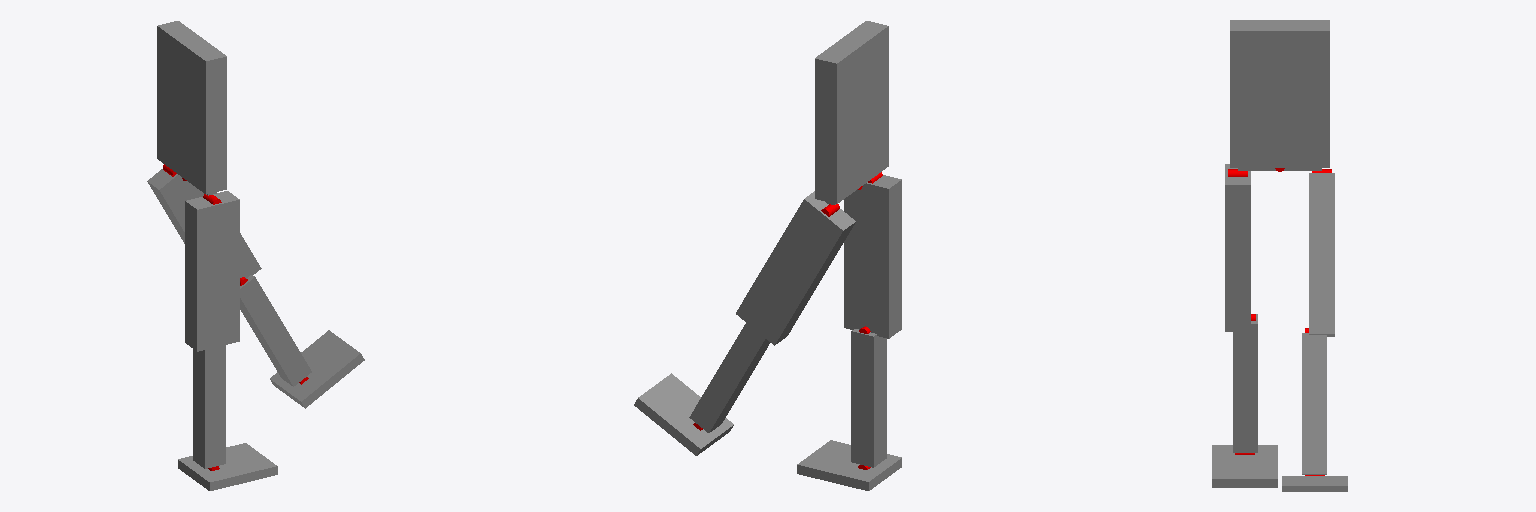
robot.urdf — humanoid:
<?xml version="1.0" ?>
<robot name="humanoid">

	<link name="world">
	<inertial>
      <mass value="0"/>
      <inertia ixx="0.2125" ixy="-0.005" ixz="0.0225" iyy="0.205" iyz="0.045" izz="0.0125"/>
      <origin rpy="0 0 0" xyz="0 0 0"/>
    </inertial>
	</link>

	<link name="x_prismatic">
	 <inertial>
      <mass value="0.01"/>
      <inertia ixx="0.2125" ixy="-0.005" ixz="0.0225" iyy="0.205" iyz="0.045" izz="0.0125"/>
      <origin rpy="0 0 0" xyz="0 0 0"/>
    </inertial>
	</link>

	<joint name="x_to_world" type="prismatic">
    <parent link="world"/>
    <child link="x_prismatic"/>
    <axis xyz="1 0 0"/>
    <limit effort="0.0" lower="10" upper="-10" velocity="1000.0"/>
    <origin rpy="0 0 0" xyz="0 0 0"/>
  </joint>

	<link name="z_prismatic">
	 <inertial>
      <mass value="0.01"/>
      <inertia ixx="0.2125" ixy="-0.005" ixz="0.0225" iyy="0.205" iyz="0.045" izz="0.0125"/>
      <origin rpy="0 0 0" xyz="0 0 0"/>
    </inertial>
	</link>

	<joint name="z_to_y" type="prismatic">
    <parent link="x_prismatic"/>
    <child link="z_prismatic"/>
    <axis xyz="0 0 1"/>
     <limit effort="0.0" lower="10" upper="-10" velocity="1000.0"/>
    <origin rpy="0 0 0" xyz="0 0 0"/>
  </joint>

	<joint name="torso_to_z" type="prismatic">
    <parent link="z_prismatic"/>
    <child link="body"/>
    <axis xyz="0 1 0"/>
    <origin rpy="0 0 0" xyz="0 0 0"/>
    <limit effort="0.0" lower="10" upper="-10" velocity="1000.0"/>
  </joint>


    <link name="body">
        <visual>
            <geometry>
                <box size="0.05 0.2 0.3"/>
            </geometry>
            <origin xyz="0.0 0 0.0" rpy="0 0 0"/>
            <material name="linkColor">
                <color rgba=" 0.6 0.6 0.6 1.0"/>
            </material>
        </visual>
        <inertial>
            <mass value="5.81"/>
            <inertia ixx="0.190" ixy="-0.000237" ixz="0.00220" iyy="0.194" iyz="0.00142" izz="0.0308"/>
            <origin xyz="0.00672  0.00244 0.076" rpy="0 0 0"/>
        </inertial>
        <collision>
            <geometry>
                <box size="0.05 0.2 0.3"/>
            </geometry>
            <origin xyz="0.0 0 0.0" rpy="0 0 0"/>
        </collision>
    </link>

    <!-- ****************************Right leg joints******************************************** -->

    <joint name="jointHipR" type="revolute">
        <parent link="body"/>
        <child link="hipCylinderR"/>
        <origin xyz="0 0.0 -0.15" rpy="0 0 0"/>
        <axis xyz="1 0 0"/>
        <limit effort="90" lower="-0.174533" upper="0" velocity="10"/>
        <dynamics damping="0.01"/>
    </joint>


    <link name="hipCylinderR">
        <visual>
            <geometry>
                <cylinder length="0.04" radius="0.01"/>
            </geometry>
            <origin xyz="0 0 0.0" rpy="0 1.57 0"/>
            <axis xyz="0 0 0" />
            <material name="red">
                <color rgba="1 0.0 0.0 1.0"/>
            </material>
        </visual>
        <inertial>
            <mass value="0"/>
            <inertia ixx="0" ixy="0" ixz="0.0" iyy="0" iyz="0.0" izz="0"/>
        </inertial>
    </link>

    <joint name="jointUpperLegR" type="revolute">
        <parent link="hipCylinderR"/>
        <child link="upperLegCylinderR"/>
        <origin xyz="0 -0.0830 -0.0250" rpy="0 0 0"/>
        <axis xyz="0 1 0"/>
        <limit effort="90" lower="-1.047" upper="+0.698132" velocity="10"/>
        <dynamics damping="0.173402366366"/>
    </joint>

    <link name="upperLegCylinderR">
        <visual>
            <geometry>
                <cylinder length="0.04" radius="0.01"/>
            </geometry>
            <origin xyz="0 0 0" rpy="1.57 0 0"/>
            <axis xyz="0 0 0" />
            <material name="red"/>
        </visual>
        <inertial>
            <mass value="0"/>
            <inertia ixx="0" ixy="0" ixz="0.0" iyy="0" iyz="0.0" izz="0"/>
        </inertial>
    </link>

    <joint name="jointLowerLegR" type="revolute">
        <parent link="upperLegCylinderR"/>
        <child link="lowerlegCylinderR"/>
        <origin xyz="0.00110 0.0140 -0.3155" rpy="0 0 0"/>
        <axis xyz="0 1 0"/>
        <limit effort="90" lower="0" upper="1.570796" velocity="10"/>
        <dynamics damping="0.198431592389"/>
    </joint>

    <link name="lowerlegCylinderR">
        <visual>
            <geometry>
                <cylinder length="0.044" radius="0.01"/>
            </geometry>
            <origin xyz="0 0 0" rpy="1.57075 0 0"/>
            <axis xyz="0 0 0" />
            <material name="red"/>
        </visual>
        <inertial>
            <mass value="0"/>
            <inertia ixx="0" ixy="0" ixz="0.0" iyy="0" iyz="0.0" izz="0"/>
        </inertial>
    </link>

    <joint name="jointAnkleR" type="fixed">
        <parent link="lowerlegCylinderR"/>
        <child link="ankleCylinderR"/>
        <origin xyz="0.00300 0 -0.2915" rpy="0 0 0"/>
        <axis xyz="0 1 0"/>
        <limit effort="90" lower="-0.436332" upper="+0.436332" velocity="10"/>
        <dynamics damping="0.0005"/>
    </joint>

    <link name="ankleCylinderR">
        <visual>
            <geometry>
                <cylinder length="0.04" radius="0.01"/>
            </geometry>
            <origin xyz="0 0 0" rpy="1.57075 0 0"/>
            <axis xyz="0 0 0" />
            <material name="red"/>
        </visual>
        <inertial>
            <mass value="0"/>
            <inertia ixx="0" ixy="0" ixz="0.0" iyy="0" iyz="0.0" izz="0"/>
        </inertial>
    </link>
<!--
    <joint name="jointfootR" type="revolute">
        <parent link="ankleCylinderR"/>
        <child link="footCylinderR"/>
        <origin xyz="0 0 -0.0115" rpy="0 0 0"/>
        <axis xyz="1 0 0"/>
        <limit effort="10" lower="-3" upper="+3" velocity="10"/>
        <dynamics damping="0"/>
    </joint>
    <link name="footCylinderR">
        <visual>
            <geometry>
                <cylinder length="0.04" radius="0.01"/>
            </geometry>
            <origin xyz="0 0 0.02" rpy="0 1.57 0"/>
            <axis xyz="0 0 0" />
            <material name="red"/>
        </visual>
        <inertial>
            <mass value="0"/>
            <inertia ixx="0" ixy="0" ixz="0.0" iyy="0" iyz="0.0" izz="0"/>
        </inertial>
    </link> -->

    <!--************************************ Left leg joints **********************************************-->


    <joint name="jointHipL" type="revolute">
        <parent link="body"/>
        <child link="hipCylinderL"/>
        <origin xyz="0 0.0 -0.15" rpy="0 0 0"/>
        <axis xyz="1 0 0"/>
        <limit effort="90" lower="0" upper="+0.174533" velocity="10"/>
        <dynamics damping="0.01"/>
    </joint>


    <link name="hipCylinderL">
        <visual>
            <geometry>
                <cylinder length="0.04" radius="0.01"/>
            </geometry>
            <origin xyz="0 0 0" rpy="0 1.57 0"/>
            <axis xyz="0 0 0" />
            <material name="red">
                <color rgba="1 0.0 0.0 1.0"/>
            </material>
        </visual>
        <inertial>
            <mass value="0"/>
            <inertia ixx="0" ixy="0" ixz="0.0" iyy="0" iyz="0.0" izz="0"/>
        </inertial>
    </link>

    <joint name="jointUpperLegL" type="revolute">
        <parent link="hipCylinderL"/>
        <child link="upperLegCylinderL"/>
        <origin xyz="0 0.0830 -0.0250" rpy="0 -0.5 0"/>
        <axis xyz="0 1 0"/>
        <limit effort="10" lower="-0.523599" upper="+1.22173" velocity="10"/>
        <dynamics damping="0.173402366366"/>
    </joint>

    <link name="upperLegCylinderL">
        <visual>
            <geometry>
                <cylinder length="0.04" radius="0.01"/>
            </geometry>
            <origin xyz="0 0 0.0" rpy="1.57 0 0"/>
            <axis xyz="0 0 0" />
            <material name="red"/>
        </visual>
        <inertial>
            <mass value="0"/>
            <inertia ixx="0" ixy="0" ixz="0.0" iyy="0" iyz="0.0" izz="0"/>
        </inertial>
    </link>

    <joint name="jointLowerLegL" type="revolute">
        <parent link="upperLegCylinderL"/>
        <child link="lowerlegCylinderL"/>
        <origin xyz="0.00110 -0.0140 -0.3155" rpy="0 0 0"/>
        <axis xyz="0 1 0"/>
        <limit effort="90" lower="0" upper="1.570796" velocity="10"/>
        <dynamics damping="0.198431592389"/>
    </joint>

    <link name="lowerlegCylinderL">
        <visual>
            <geometry>
                <cylinder length="0.04" radius="0.01"/>
            </geometry>
            <origin xyz="0 0 0" rpy="1.57075 0 0"/>
            <axis xyz="0 0 0" />
            <material name="red"/>
        </visual>
        <inertial>
            <mass value="0"/>
            <inertia ixx="0" ixy="0" ixz="0.0" iyy="0" iyz="0.0" izz="0"/>
        </inertial>
    </link>

    <joint name="jointAnkleL" type="fixed">
        <parent link="lowerlegCylinderL"/>
        <child link="ankleCylinderL"/>
        <origin xyz="0.00300 0 -0.2915" rpy="0 0 0"/>
        <axis xyz="0 1 0"/>
        <limit effort="90" lower="-0.436332" upper="+0.436332" velocity="10"/>
        <dynamics damping="0.0005"/>
    </joint>

    <link name="ankleCylinderL">
        <visual>
            <geometry>
                <cylinder length="0.04" radius="0.01"/>
            </geometry>
            <origin xyz="0 0 0" rpy="1.57075 0 0"/>
            <axis xyz="0 0 0" />
            <material name="red"/>
        </visual>
        <inertial>
            <mass value="0"/>
            <inertia ixx="0" ixy="0" ixz="0.0" iyy="0" iyz="0.0" izz="0"/>
        </inertial>
    </link>

    <!-- <joint name="jointfootL" type="revolute">
        <parent link="ankleCylinderL"/>
        <child link="footCylinderL"/>
        <origin xyz="0 0 -0.0115" rpy="0 0 0"/>
        <axis xyz="1 0 0"/>
        <limit effort="10" lower="-3" upper="+3" velocity="10"/>
        <dynamics damping="0"/>
    </joint>
    <link name="footCylinderL">
        <visual>
            <geometry>
                <cylinder length="0.04" radius="0.01"/>
            </geometry>
            <origin xyz="0 0 0.02" rpy="0 1.57 0"/>
            <axis xyz="0 0 0" />
            <material name="red"/>
        </visual>
        <inertial>
            <mass value="0"/>
            <inertia ixx="0" ixy="0" ixz="0.0" iyy="0" iyz="0.0" izz="0"/>
        </inertial>
    </link> -->

    <!-- **************************************Decorations Right leg **********************************************-->


    <joint name="fixed_hipBridgeR" type="fixed">
        <parent link="hipCylinderR"/>
        <child link="hipBridgeR"/>
    </joint>

    <link name="hipBridgeR">
        <visual>
            <geometry>
                <box size="0.02 0.0830 0.0250"/>
            </geometry>
            <origin xyz="0 -0.0415 0.0" rpy="0 0 0"/>
            <material name="linkColor">
                <color rgba=" 0.6 0.6 0.6 1.0"/>
            </material>
        </visual>
        <inertial>
            <mass value="0.219"/>
            <inertia ixx="0.000414" ixy="0.0000149" ixz="0.00000188" iyy="0.000128" iyz="-0.0000311" izz="0.000395"/>
            <origin rpy="0 0 0" xyz="0.00131 -0.0515 -0.00661"/>
        </inertial>
        <collision>
            <geometry>
                <box size="0.02 0.0830 0.0250"/>
            </geometry>
            <origin xyz="0 -0.0415 0.0" rpy="0 0 0"/>
            <!-- <contact_coefficient mu="0.0"  resitution="0"  k_p="4000"  k_d="0.01" /> -->
        </collision>
    </link>

    <joint name="fixed_upperLegBridgeR" type="fixed">
        <parent link="upperLegCylinderR"/>
        <child link="upperLegBridgeR"/>
    </joint>

    <link name="upperLegBridgeR">
        <visual>
            <geometry>
                <box size="0.1 0.05 0.32"/>
            </geometry>
            <origin xyz="0.0 0.0 -0.16" rpy="0 0 0"/>
            <material name="linkColor">
                <color rgba=" 0.6 0.6 0.6 1.0"/>
            </material>
        </visual>
        <inertial>
            <mass value="1.94"/>
            <inertia ixx="0.0104" ixy="-0.00000195" ixz="0.0000231" iyy="0.00933" iyz="-0.000127" izz="0.00161"/>
            <origin xyz="0.00154  -0.00421 -0.111" rpy="0 0 0"/>
        </inertial>
        <collision>
            <geometry>
                <box size="0.1 0.05 0.32"/>
            </geometry>
            <origin xyz="0.0 0.0 -0.16" rpy="0 0 0"/>
            <!-- <contact_coefficient mu="0.0578491069103"  resitution="0"  k_p="4000"  k_d="0.173402366366" /> -->
        </collision>
    </link>

    <joint name="fixed_lowerLegBridgeR" type="fixed">
        <parent link="lowerlegCylinderR"/>
        <child link="lowerLegBridgeR"/>
    </joint>

    <link name="lowerLegBridgeR">
        <visual>
            <geometry>
                <box size="0.05 0.05 0.28"/>
            </geometry>
            <origin xyz="0 0 -0.14" rpy="0 0 0"/>
            <material name="linkColor">
                <color rgba=" 0.6 0.6 0.6 1.0"/>
            </material>
        </visual>
        <inertial>
            <mass value="0.267"/>
            <inertia ixx="0.00252" ixy="-0.000000411" ixz="-0.0000238" iyy="0.00245" iyz="0.0000366" izz="0.000110"/>
            <origin xyz="0.00153  0.00496 -0.105" rpy="0 0 0"/>
        </inertial>
        <collision>
            <geometry>
                <box size="0.05 0.05 0.28"/>
            </geometry>
            <origin xyz="0.0 0 -0.14" rpy="0 0 0"/>
            <!-- <contact_coefficient mu="0.0960723602789"  resitution="0"  k_p="4000"  k_d="0.198431592389" /> -->
        </collision>
    </link>


    <joint name="fixed_ankleBridgeR" type="fixed">
        <parent link="ankleCylinderR"/>
        <child link="ankleBridgeR"/>
    </joint>

    <link name="ankleBridgeR">
        <visual>
            <geometry>
                <box size="0.16 0.13 0.02"/>
            </geometry>
            <origin xyz="0.04 0 -0.01" rpy="0 0 0"/>
            <material name="linkColor">
                <color rgba=" 0.6 0.6 0.6 1.0"/>
            </material>
        </visual>
        <inertial>
            <mass value="0.2356"/>
            <inertia ixx="0.0000952" ixy="0.00000066457" ixz="0.0000003989" iyy="0.0005002" iyz="-0.000005328" izz="0.0005679"/>
            <origin xyz="0.0230654545  0.0004316655 -0.0061157216" rpy="0 0 0"/>
        </inertial>
        <collision>
            <geometry>
                <box size="0.16 0.13 0.02"/>
            </geometry>
            <origin xyz="0.04 0 -0.01" rpy="0 0 0"/>
            <contact_coefficient mu="0.5"  resitution="0"  k_p="0"  k_d="0.0005" />
        </collision>
    </link>

    <!--&lt;!&ndash; *********************************Decorations Left leg ******************************************&ndash;&gt;-->
    <joint name="fixed_hipBridgeL" type="fixed">
        <parent link="hipCylinderL"/>
        <child link="hipBridgeL"/>
    </joint>

    <link name="hipBridgeL">
        <visual>
            <geometry>
                <box size="0.02 0.0830 0.0250"/>
            </geometry>
            <origin xyz="0 0.0415 0" rpy="0 0 0"/>
            <material name="linkColor">
                <color rgba=" 0.6 0.6 0.6 1.0"/>
            </material>
        </visual>
        <inertial>
            <mass value="0.219"/>
            <inertia ixx="0.000414" ixy="0.0000149" ixz="-0.00000188" iyy="0.000128" iyz="0.0000311" izz="0.000359"/>
            <origin rpy="0 0 0" xyz="-0.00131 0.0515 -0.00661"/>
        </inertial>
        <collision>
            <geometry>
                <box size="0.02 0.0830 0.0250"/>
            </geometry>
            <origin xyz="0 0.0415 0.0125" rpy="0 0 0"/>
            <!-- <contact_coefficient mu="0.0"  resitution="0"  k_p="4000"  k_d="0.01" /> -->
        </collision>
    </link>

    <joint name="fixed_upperLegBridgeL" type="fixed">
        <parent link="upperLegCylinderL"/>
        <child link="upperLegBridgeL"/>
    </joint>

    <link name="upperLegBridgeL">
        <visual>
            <geometry>
                <box size="0.1 0.05 0.32"/>
            </geometry>
            <origin xyz="0 0 -0.16" rpy="0 0 0"/>
            <material name="linkColor">
                <color rgba=" 0.6 0.6 0.6 1.0"/>
            </material>
        </visual>
        <inertial>
            <mass value="1.94"/>
            <inertia ixx="0.0104" ixy="0.00000286" ixz="0.0000226" iyy="0.00933" iyz="0.000325" izz="0.00165"/>
            <origin xyz="-0.00167  0.00371 -0.111" rpy="0 0 0"/>
        </inertial>
        <collision>
            <geometry>
                <box size="0.1 0.05 0.32"/>
            </geometry>
            <origin xyz="0 0 -0.16" rpy="0 0 0"/>
            <!-- <contact_coefficient mu="0.0578491069103"  resitution="0"  k_p="4000"  k_d="0.173402366366" /> -->
        </collision>
    </link>

    <joint name="fixed_lowerLegBridgeL" type="fixed">
        <parent link="lowerlegCylinderL"/>
        <child link="lowerLegBridgeL"/>
    </joint>

    <link name="lowerLegBridgeL">
        <visual>
            <geometry>
                <box size="0.05 0.05 0.28"/>
            </geometry>
            <origin xyz="0 0 -0.14" rpy="0 0 0"/>
            <material name="linkColor">
                <color rgba=" 0.6 0.6 0.6 1.0"/>
            </material>
        </visual>
        <inertial>
            <mass value="0.267"/>
            <inertia ixx="0.00252" ixy="-0.000000411" ixz="-0.0000238" iyy="0.00245" iyz="0.0000366" izz="0.000110"/>
            <origin xyz="0.00153  0.00496 -0.105" rpy="0 0 0"/>
        </inertial>
        <collision>
            <geometry>
                <box size="0.05 0.05 0.28"/>
            </geometry>
            <origin xyz="0 0 -0.14" rpy="0 0 0"/>
            <!-- <contact_coefficient mu="0.0960723602789"  resitution="0"  k_p="4000"  k_d="0.198431592389" /> -->
        </collision>
    </link>


    <joint name="fixed_ankleBridgeL" type="fixed">
        <parent link="ankleCylinderL"/>
        <child link="ankleBridgeL"/>
    </joint>

    <link name="ankleBridgeL">
        <visual>
            <geometry>
                <box size="0.16 0.13 0.02"/>
            </geometry>
            <origin xyz="0.04 0 -0.01" rpy="0 0 0"/>
            <material name="linkColor">
                <color rgba=" 0.6 0.6 0.6 1.0"/>
            </material>
        </visual>
        <inertial>
            <mass value="0.2356"/>
            <inertia ixx="0.0000952" ixy="0.00000066457" ixz="0.0000003989" iyy="0.0005002" iyz="-0.000005328" izz="0.0005679"/>
            <origin xyz="0.0230654545  0.0004316655 -0.0061157216" rpy="0 0 0"/>
        </inertial>
        <collision>
            <geometry>
                <box size="0.16 0.13 0.02"/>
            </geometry>
            <origin xyz="0.04 0 -0.01" rpy="0 0 0"/>
            <contact_coefficient mu="0.5"  resitution="0"  k_p="0"  k_d="0.0005" />
        </collision>
    </link>

</robot>

--- Render facts (derived) ---
Views: 3 orthographic renders of the robot side by side, from view 1: azimuth 30°, elevation 25°; view 2: azimuth 150°, elevation 25°; view 3: azimuth 270°, elevation 25°.
Robot: humanoid — 20 links, 19 joints (6 revolute, 3 prismatic, 10 fixed); root link world; default pose: every joint at zero.
Links seen in each view (by area): view 1: body, upperLegBridgeR, lowerLegBridgeR, lowerLegBridgeL, ankleBridgeL, ankleBridgeR, upperLegBridgeL; view 2: body, upperLegBridgeR, upperLegBridgeL, lowerLegBridgeR, lowerLegBridgeL, ankleBridgeL, ankleBridgeR; view 3: body, upperLegBridgeL, upperLegBridgeR, lowerLegBridgeL, lowerLegBridgeR, ankleBridgeR, ankleBridgeL.
Link boxes in pixels (x1=…): body: x1=157, y1=21, x2=226, y2=194; upperLegBridgeR: x1=185, y1=191, x2=239, y2=351; lowerLegBridgeR: x1=193, y1=345, x2=225, y2=468; lowerLegBridgeL: x1=240, y1=275, x2=311, y2=386; ankleBridgeL: x1=270, y1=330, x2=364, y2=408; ankleBridgeR: x1=178, y1=443, x2=277, y2=490; upperLegBridgeL: x1=147, y1=169, x2=261, y2=278; body: x1=815, y1=21, x2=888, y2=203; upperLegBridgeR: x1=844, y1=175, x2=901, y2=338; upperLegBridgeL: x1=736, y1=191, x2=855, y2=345; lowerLegBridgeR: x1=851, y1=329, x2=886, y2=467; lowerLegBridgeL: x1=689, y1=323, x2=770, y2=432; ankleBridgeL: x1=634, y1=373, x2=733, y2=455; ankleBridgeR: x1=797, y1=440, x2=901, y2=490; body: x1=1230, y1=20, x2=1329, y2=167; upperLegBridgeL: x1=1309, y1=173, x2=1334, y2=336; upperLegBridgeR: x1=1225, y1=164, x2=1250, y2=331; lowerLegBridgeL: x1=1302, y1=333, x2=1326, y2=474; lowerLegBridgeR: x1=1233, y1=314, x2=1257, y2=452; ankleBridgeR: x1=1212, y1=445, x2=1277, y2=487; ankleBridgeL: x1=1282, y1=476, x2=1347, y2=491.
Size in the robot's own frame: 0.4595 by 0.268 by 0.952 metres.
Geometry: primitives only (box / cylinder / sphere), no mesh files.